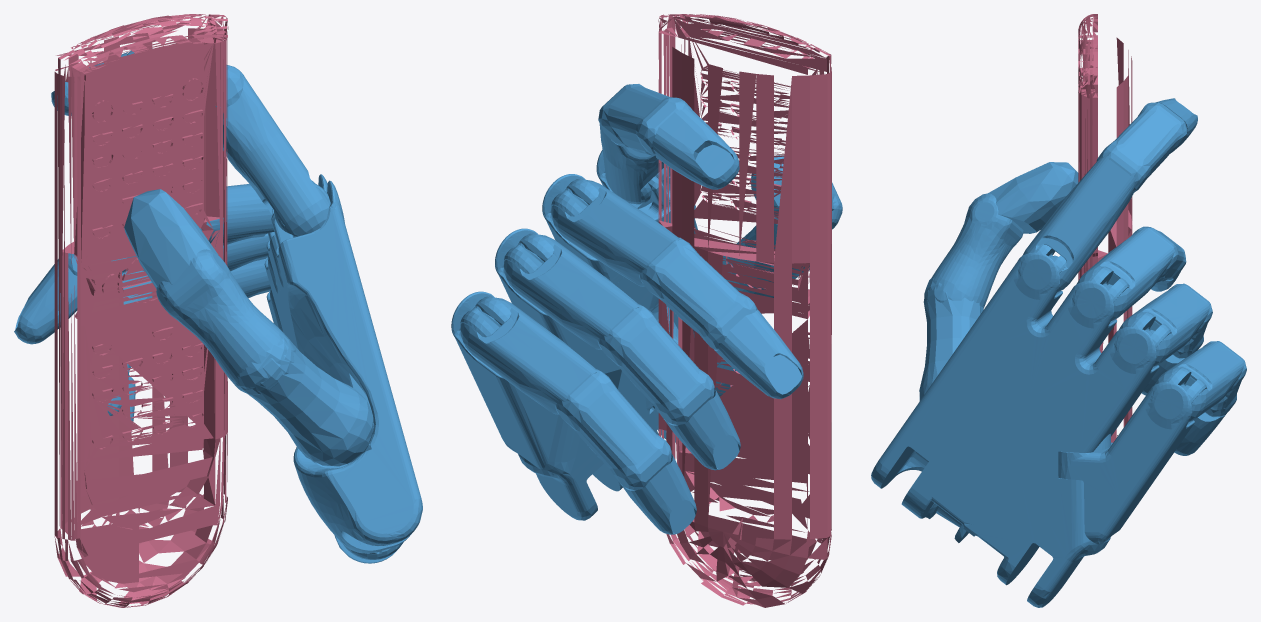
3 renders of one model, left to right at view 1: azimuth 30°, elevation 25°; view 2: azimuth 150°, elevation 25°; view 3: azimuth 270°, elevation 25°, orthographic. The views are drawn at different scales.
Visible parts, largest first — view 1: 0; view 2: 0; view 3: 0.
Boxes of the visible parts, <box> form: 0: <box>14,14,422,607</box>; 0: <box>451,14,842,607</box>; 0: <box>871,14,1246,607</box>.
Bounding box in the file's own units: 0.117 × 0.1976 × 0.135.
